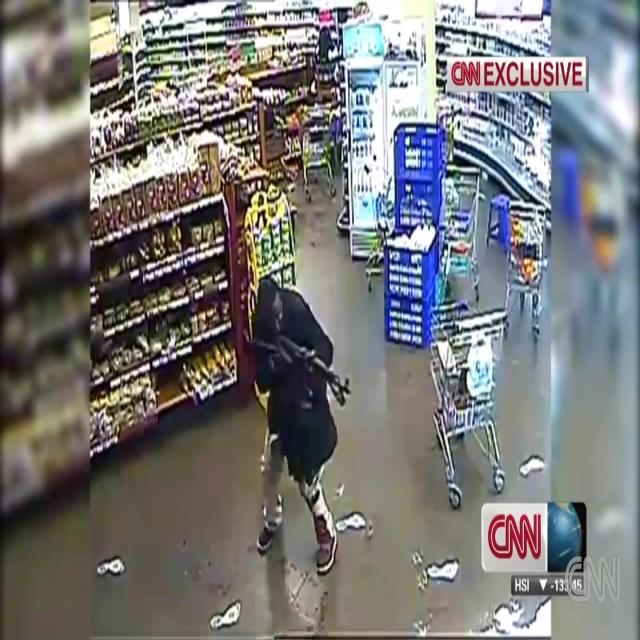Weapon: (242, 302, 360, 429)
